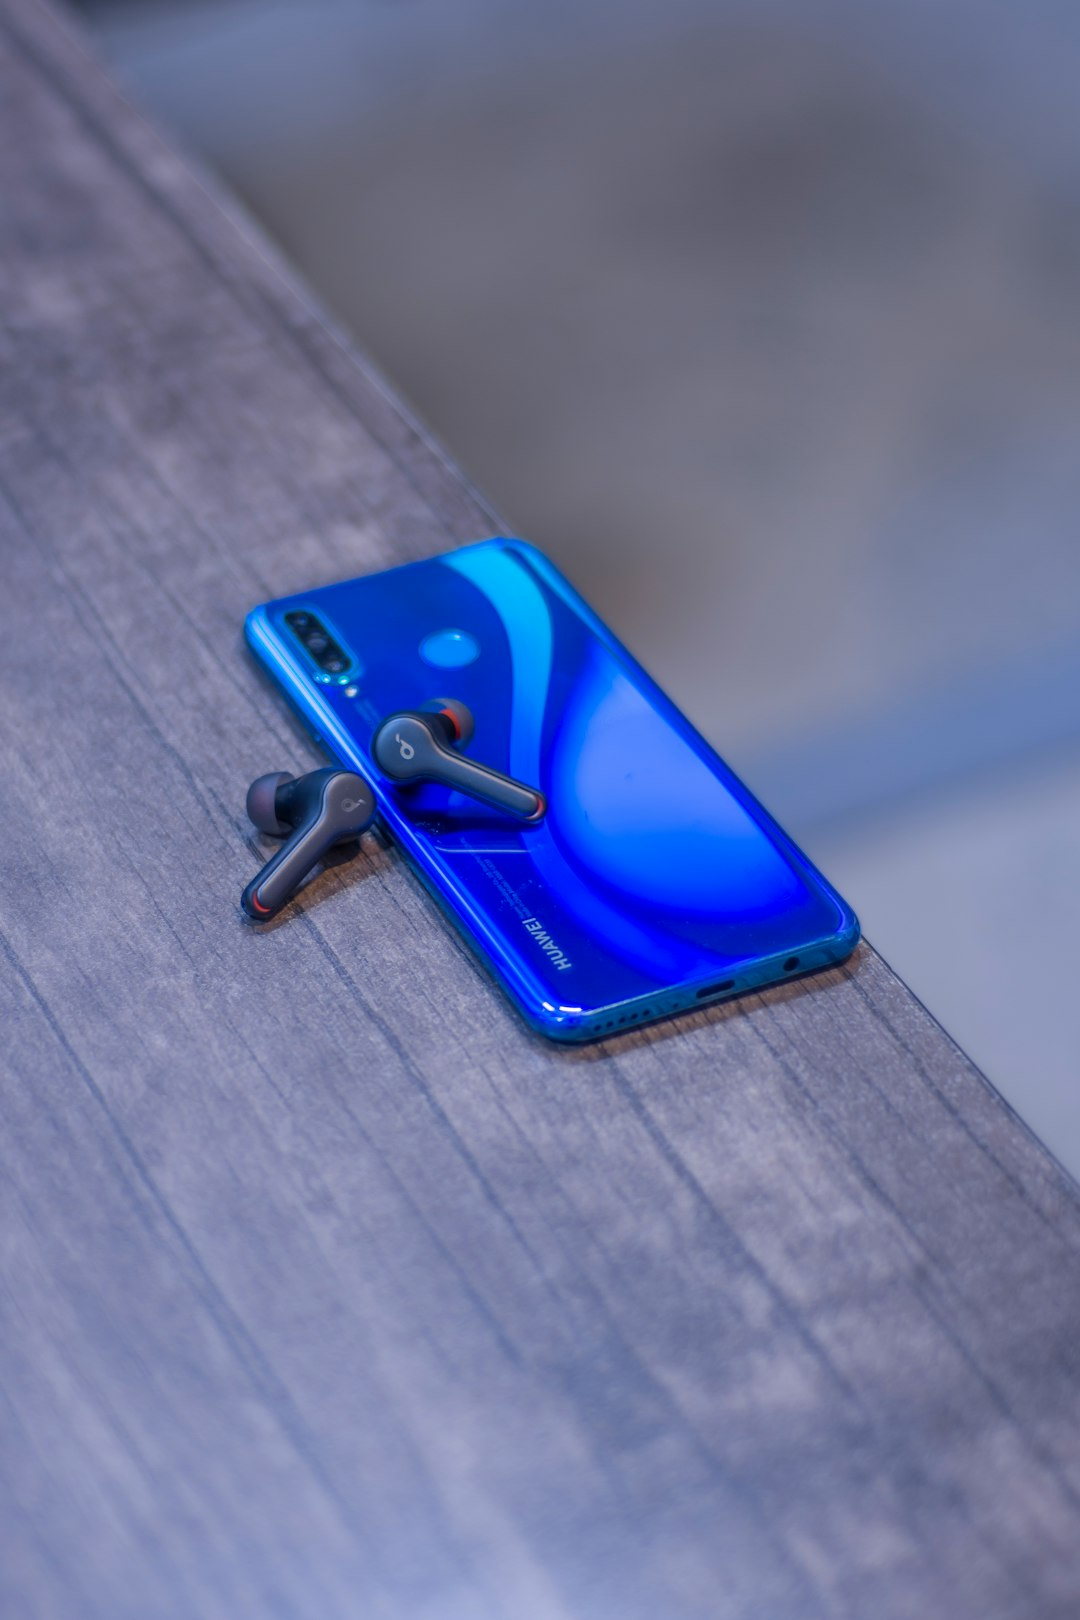phone: (246, 535, 865, 1052)
